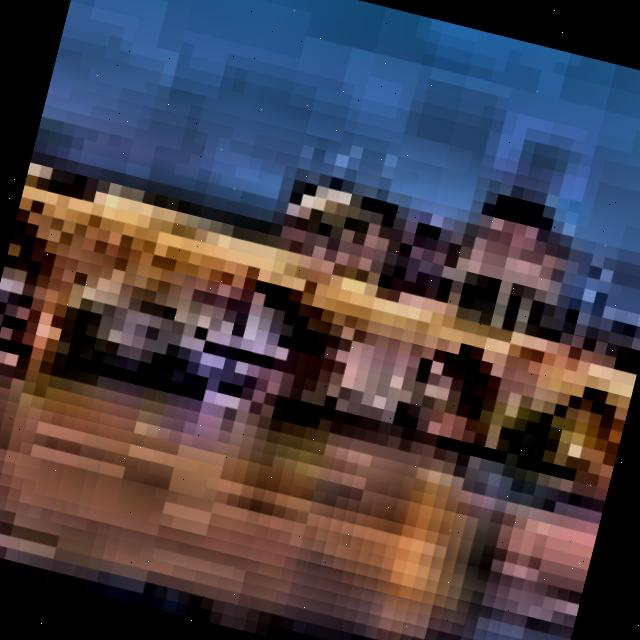stone bridge: (0, 178, 640, 507)
